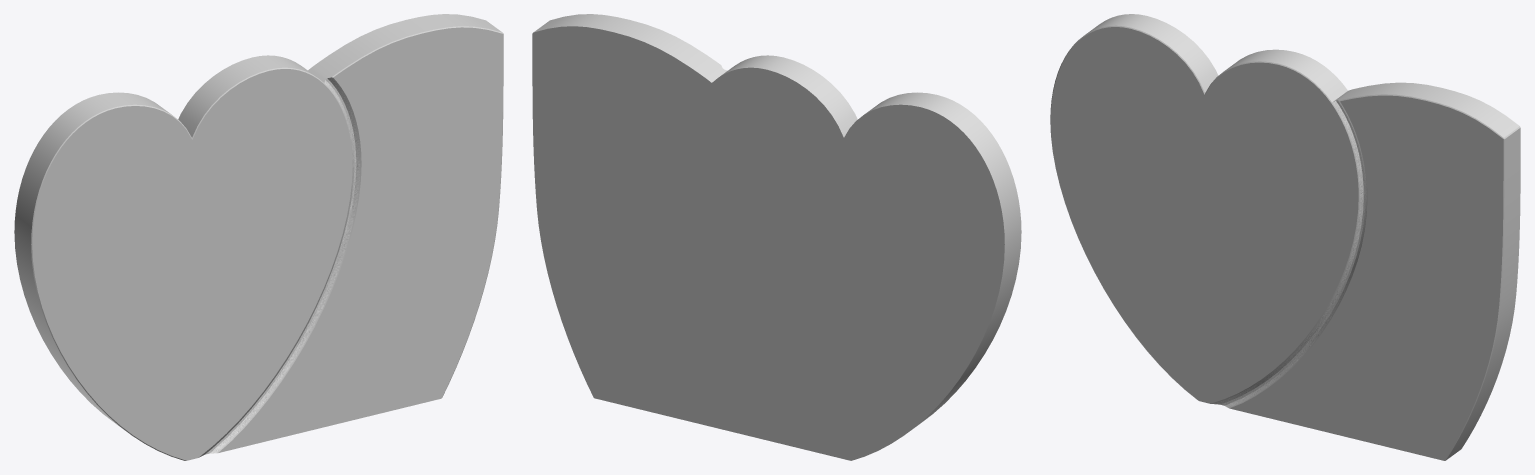
Rendered from cn54a67a0839_tkf.glb.
3 renders of one model, left to right at view 1: azimuth 30°, elevation 25°; view 2: azimuth 150°, elevation 25°; view 3: azimuth 330°, elevation 25°, orthographic. The views are drawn at different scales.
Visible parts, largest first — view 1: Pam-g-149-2, Pam-g-149-2_2_notexture; view 2: Pam-g-149-2; view 3: Pam-g-149-2, Pam-g-149-2_2_notexture.
Boxes of the visible parts, <box> form: Pam-g-149-2: <box>14,14,503,460</box>; Pam-g-149-2_2_notexture: <box>200,77,360,456</box>; Pam-g-149-2: <box>532,14,1021,460</box>; Pam-g-149-2: <box>1050,14,1520,460</box>; Pam-g-149-2_2_notexture: <box>1213,100,1366,407</box>.
Bounding box in the file's own units: 0.8 × 0.6 × 0.05.
1 material, 1 textured.
